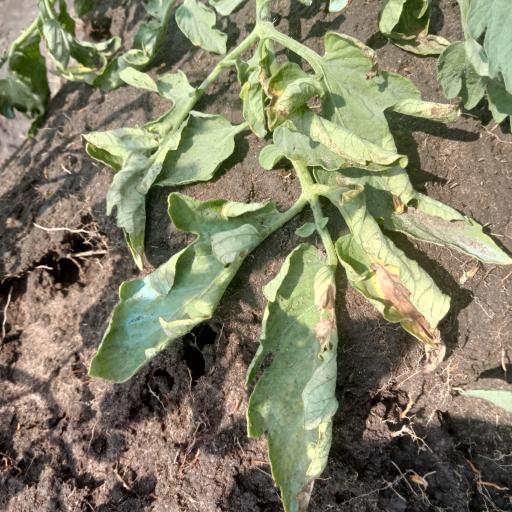Tomato_Brown_Spots: (88, 186, 283, 390), (257, 29, 429, 207), (247, 238, 345, 512)
